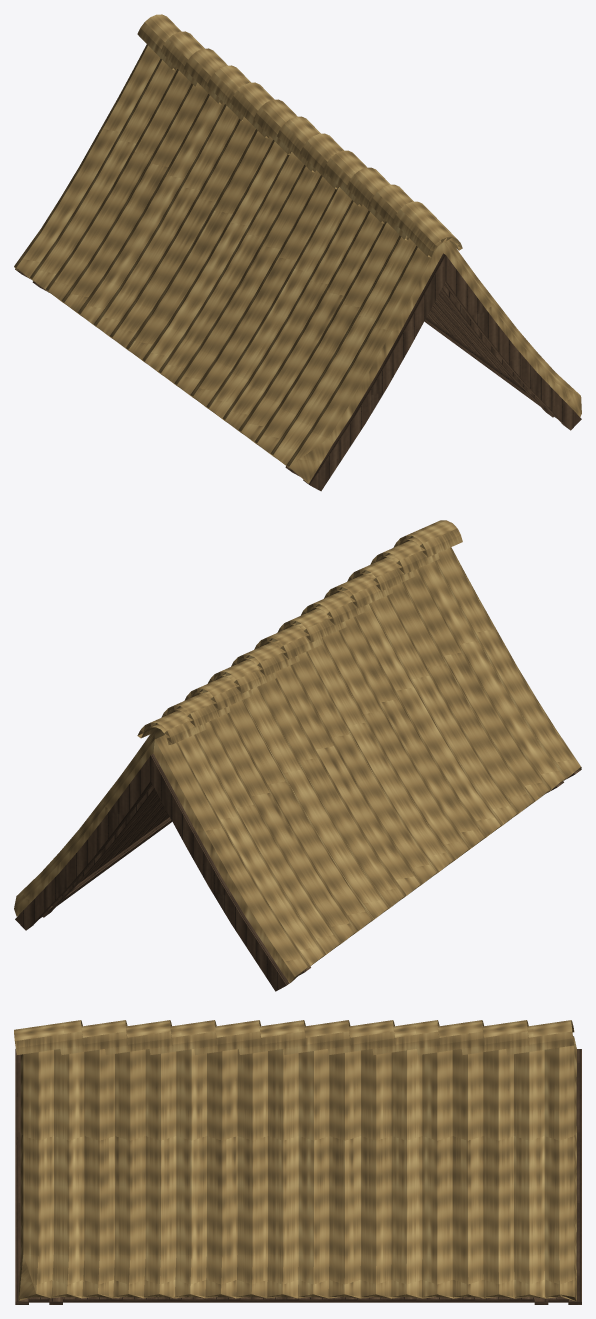
Rendered from Roof_Thatch_4x8.gltf.
3 renders of one model, top to bottom at view 1: azimuth 30°, elevation 25°; view 2: azimuth 150°, elevation 25°; view 3: azimuth 270°, elevation 25°, orthographic. The views are drawn at different scales.
Visible parts, largest first — view 1: Roof_Thatch_4x8; view 2: Roof_Thatch_4x8; view 3: Roof_Thatch_4x8.
Part boxes in pixels (x1,y1,x2,y2): Roof_Thatch_4x8: (14, 14, 581, 491); Roof_Thatch_4x8: (14, 520, 581, 991); Roof_Thatch_4x8: (14, 1020, 581, 1304).
Bounding box in the file's own units: 5.51 × 4.23 × 9.68.
Materials: 2 (2 with a texture image).
